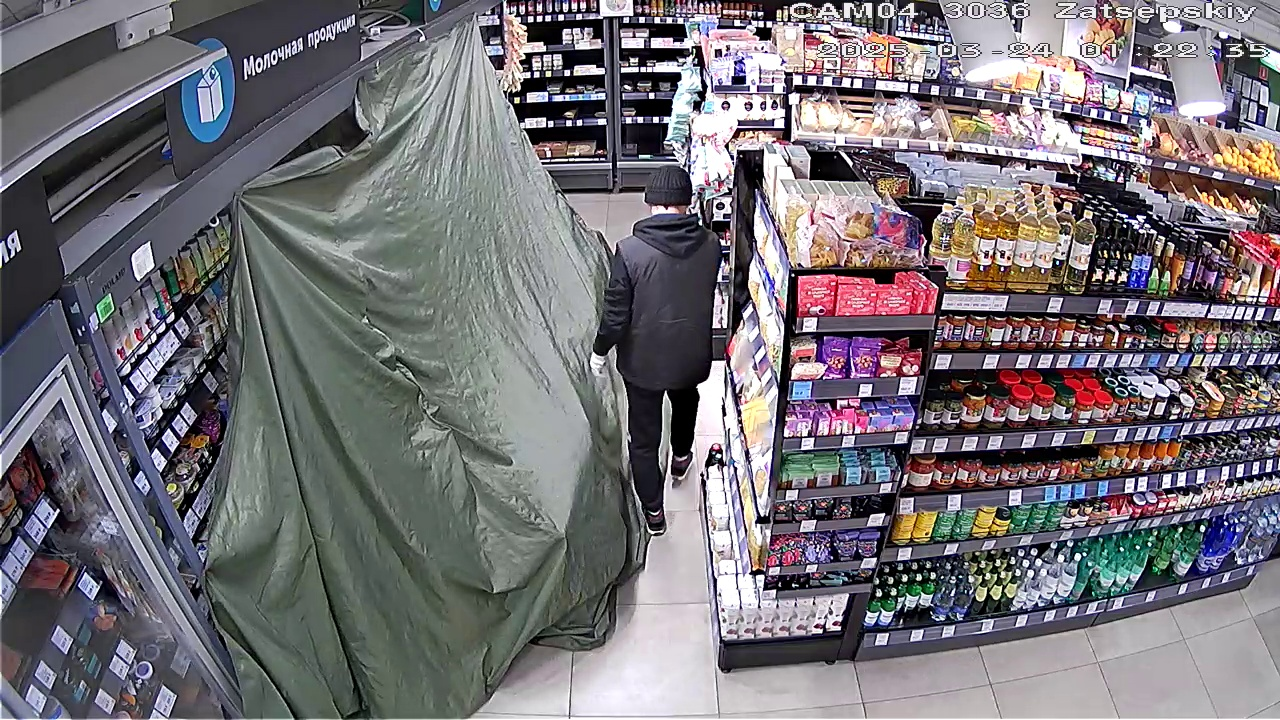Human: (575, 147, 722, 536)
dome: (181, 33, 642, 718)
